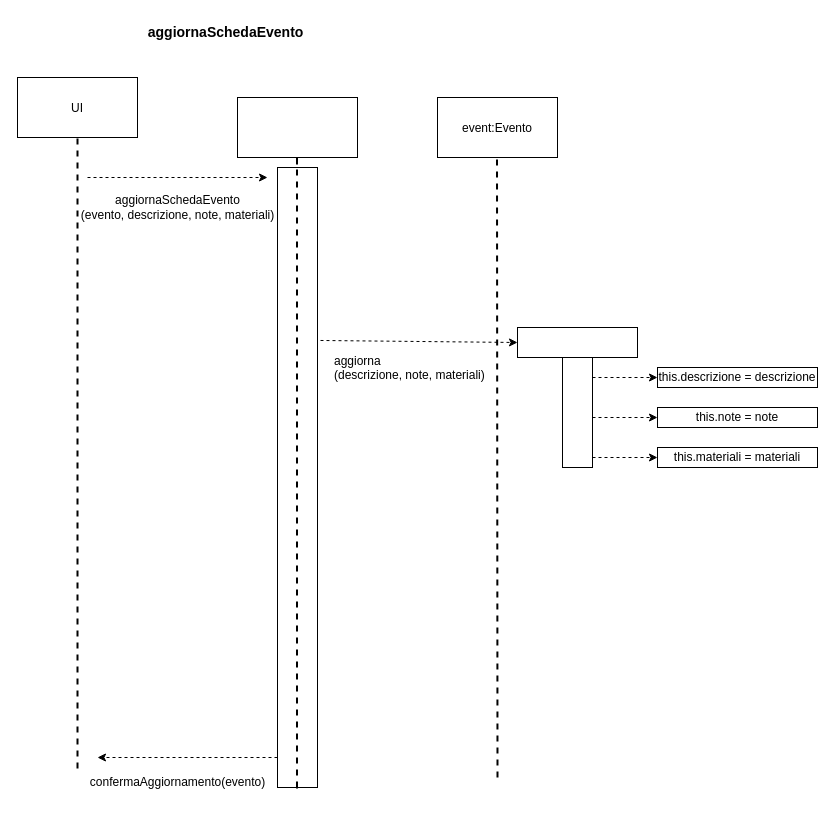
The diagram is 835 pixels wide and 814 high, and some of its shapes have lost their labels. The shapes that lost their labels are listed below. From the top down, each one's centre as x and y in pixels, then its label:
point 297,127: staffMgr: StaffManager
point 577,342: create
